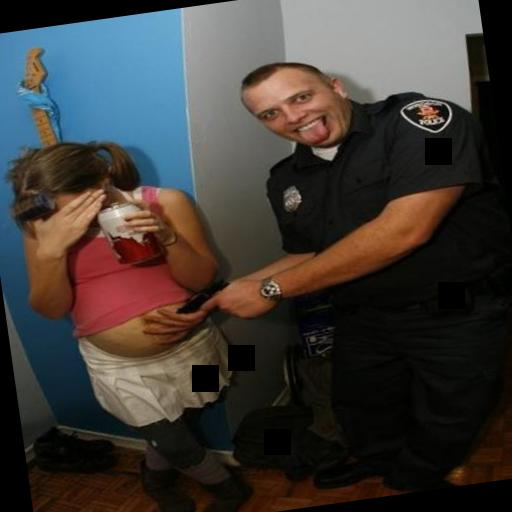Handgun: (158, 280, 232, 320)
